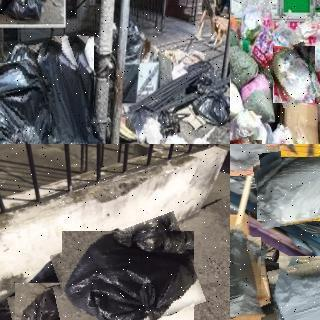Garbage: (56, 221, 199, 320), (39, 34, 106, 144), (11, 277, 134, 320), (254, 152, 320, 225), (0, 60, 55, 144), (273, 249, 320, 320), (230, 230, 267, 320), (269, 44, 319, 106), (237, 68, 277, 122), (289, 11, 320, 74), (251, 25, 282, 81), (230, 144, 281, 178), (230, 107, 272, 144), (230, 69, 246, 121), (267, 120, 300, 144)
